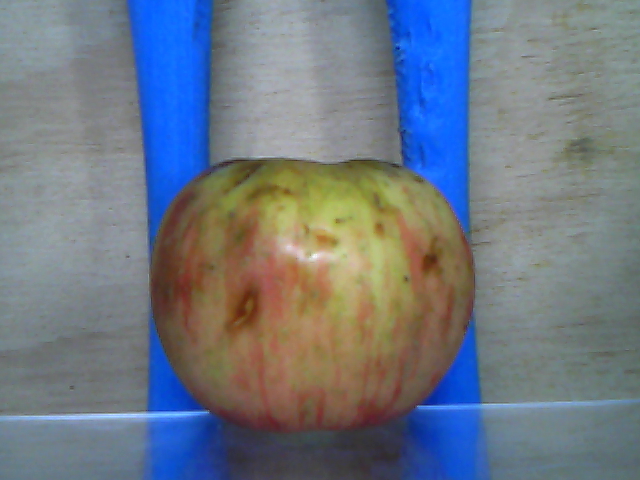cut: (227, 290, 261, 332)
